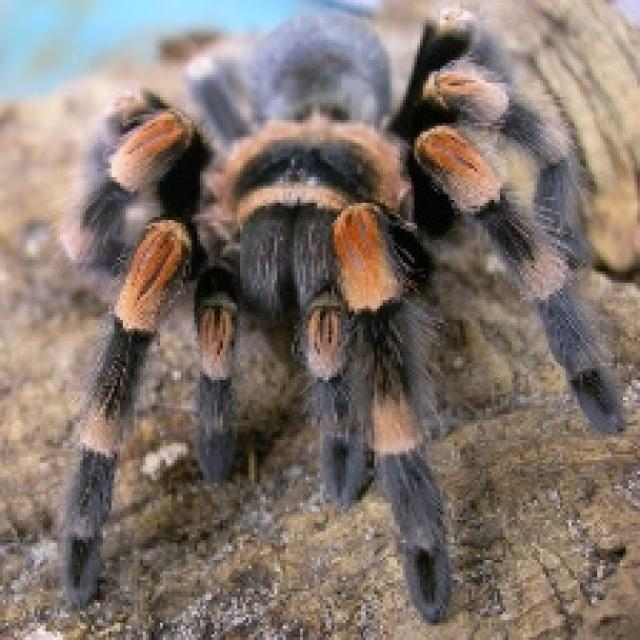Non venomous spider: (66, 10, 630, 615)
